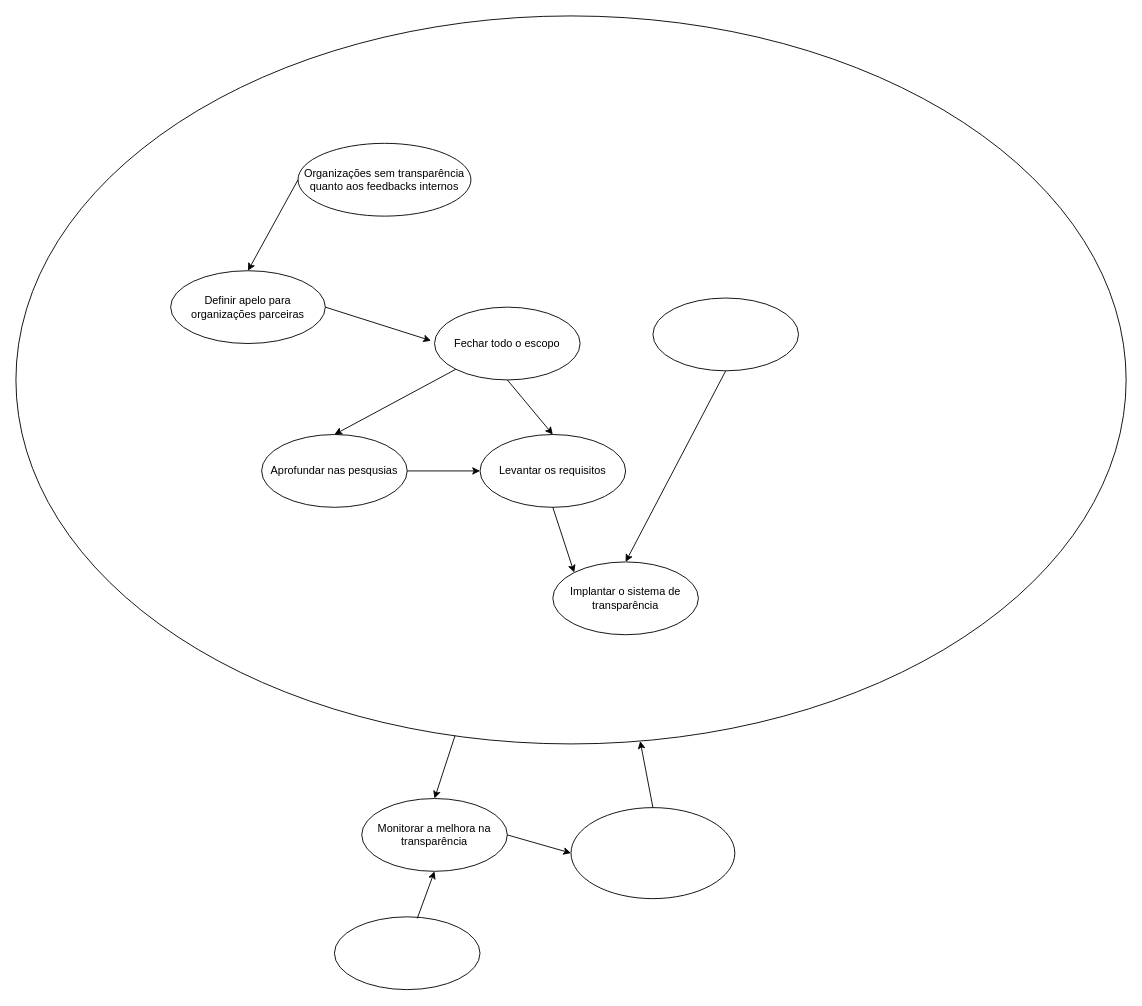
Some shapes in this 1142 by 1006 pixel diagram are drawn without their labels. The shapes that lost their labels are listed below. From the top down, each one's centre as x and y in pixels, then its label:
At pixel 725 334: "Decidir as ferramentas necessárias para implementação".
At pixel 652 853: "Implantar uma curadoria para análise e tratamento dos dados".
At pixel 407 953: "Monitorar a melhora geral na nota das organizações".
